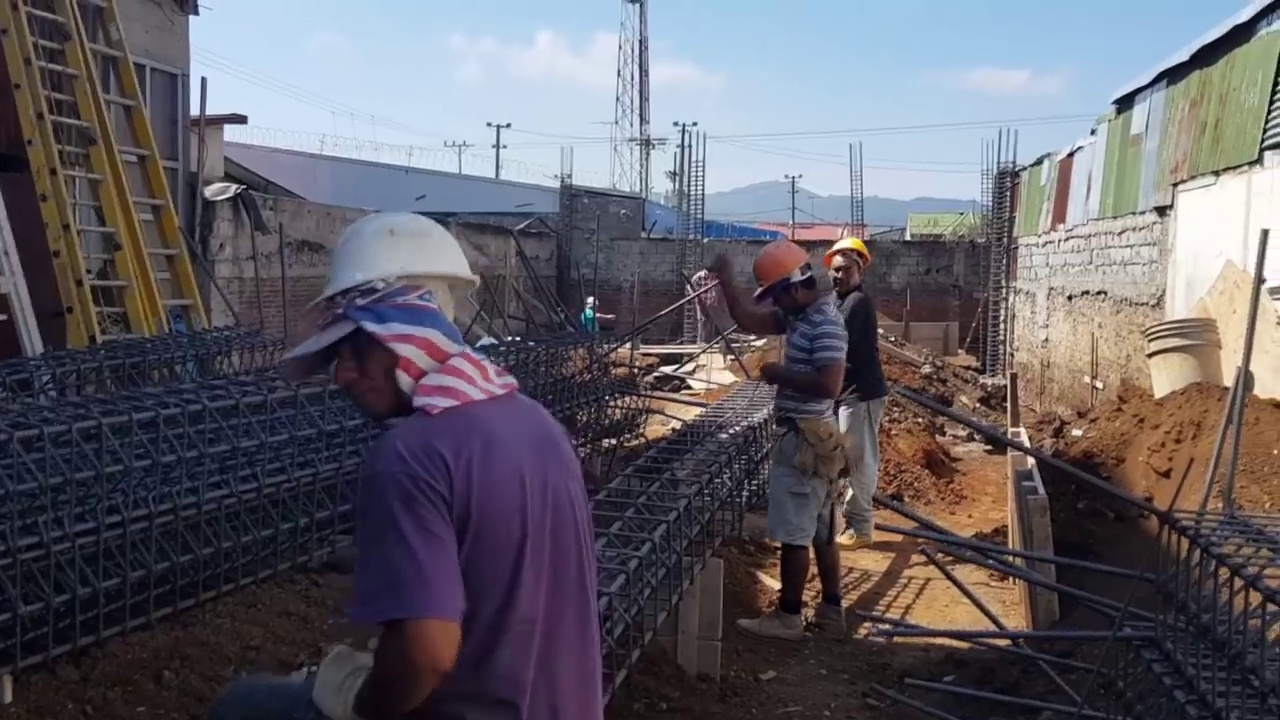helmet: (301, 212, 478, 320), (749, 240, 811, 292), (826, 237, 873, 266), (586, 295, 599, 304)
helmet-off: (705, 250, 734, 276)
helmet-on: (300, 212, 479, 429), (747, 240, 817, 312), (825, 236, 873, 298), (586, 294, 600, 310)
person: (298, 211, 601, 720), (737, 239, 860, 643), (825, 239, 898, 540), (688, 248, 735, 346), (581, 293, 616, 331)
